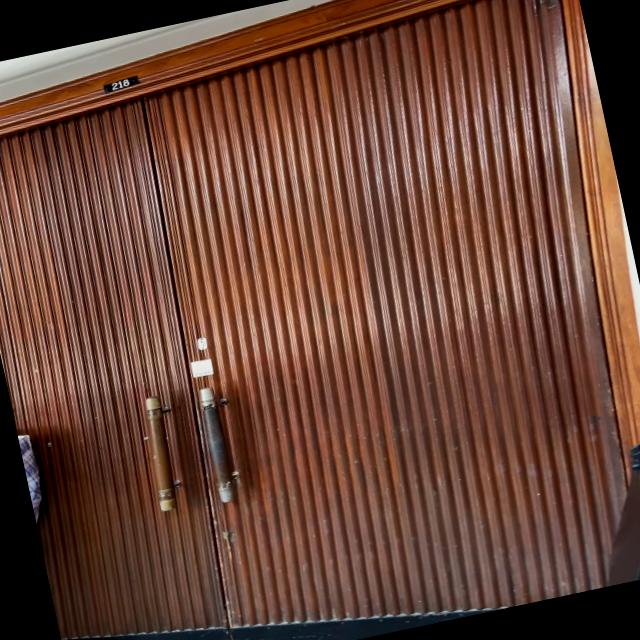room218: (96, 74, 143, 95)
